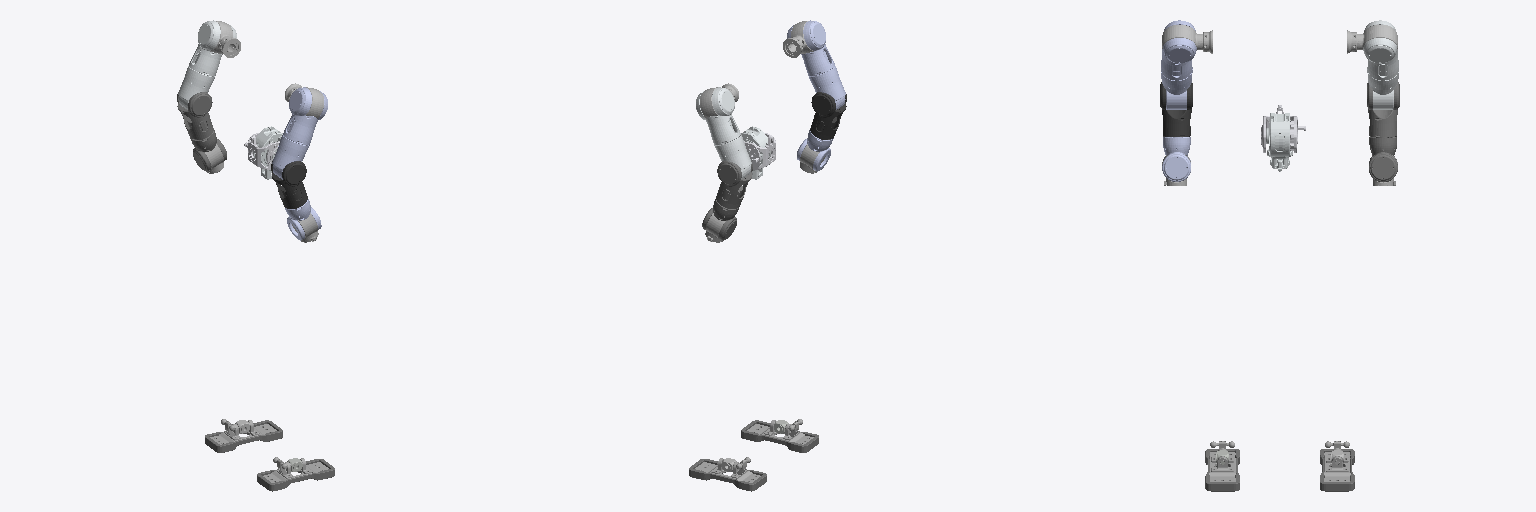
--- Facts derived from the render (not from the file) ---
Views: 3 orthographic renders of the robot side by side, from view 1: azimuth 30°, elevation 25°; view 2: azimuth 150°, elevation 25°; view 3: azimuth 270°, elevation 25°.
Model ehr_03 with 32 links and 31 joints (27 revolute, 4 fixed), rooted at base_link, posed every joint at zero.
Visible links, largest first — view 1: r_arm_l2, l_arm_l2, r_arm_l4, l_arm_l4, r_arm_l3, l_arm_l3, l_foot, r_foot, l_leg_l6, r_leg_l6, l_arm_l5, r_arm_l5 (+3 smaller); view 2: l_arm_l2, r_arm_l2, l_arm_l4, r_arm_l4, l_arm_l3, r_arm_l3, r_foot, l_foot, r_leg_l6, l_leg_l6, l_arm_l5, r_arm_l5 (+2 smaller); view 3: l_arm_l2, r_arm_l2, torso_l1, l_arm_l5, r_arm_l5, l_arm_l4, r_arm_l4, r_leg_l6, l_leg_l6, r_arm_l1, l_arm_l1, l_arm_l3 (+4 smaller).
Boxes of the visible links, bbox=[...] form: r_arm_l2: bbox=[283, 87, 327, 145]; l_arm_l2: bbox=[189, 20, 236, 76]; r_arm_l4: bbox=[271, 161, 307, 208]; l_arm_l4: bbox=[177, 92, 213, 139]; r_arm_l3: bbox=[272, 135, 309, 179]; l_arm_l3: bbox=[178, 66, 214, 109]; l_foot: bbox=[205, 420, 282, 452]; r_foot: bbox=[257, 459, 334, 491]; l_leg_l6: bbox=[210, 419, 276, 444]; r_leg_l6: bbox=[263, 457, 328, 482]; l_arm_l5: bbox=[190, 130, 226, 171]; r_arm_l5: bbox=[285, 199, 321, 240]; l_arm_l2: bbox=[696, 87, 740, 145]; r_arm_l2: bbox=[787, 20, 834, 76]; l_arm_l4: bbox=[716, 161, 752, 208]; r_arm_l4: bbox=[810, 92, 846, 139]; l_arm_l3: bbox=[714, 135, 751, 179]; r_arm_l3: bbox=[809, 66, 845, 109]; r_foot: bbox=[741, 420, 818, 452]; l_foot: bbox=[689, 459, 766, 491]; r_leg_l6: bbox=[747, 419, 813, 444]; l_leg_l6: bbox=[695, 457, 760, 482]; l_arm_l5: bbox=[702, 199, 738, 240]; r_arm_l5: bbox=[797, 130, 833, 171]; l_arm_l2: bbox=[1363, 20, 1398, 80]; r_arm_l2: bbox=[1161, 20, 1196, 80]; torso_l1: bbox=[1266, 113, 1292, 171]; l_arm_l5: bbox=[1369, 137, 1397, 181]; r_arm_l5: bbox=[1162, 137, 1190, 181]; l_arm_l4: bbox=[1367, 82, 1399, 137]; r_arm_l4: bbox=[1160, 82, 1192, 136]; r_leg_l6: bbox=[1209, 441, 1235, 481]; l_leg_l6: bbox=[1324, 441, 1350, 481]; r_arm_l1: bbox=[1162, 25, 1212, 53]; l_arm_l1: bbox=[1347, 25, 1397, 53]; l_arm_l3: bbox=[1367, 69, 1398, 109].
Size in the robot's own frame: 0.2567 by 0.633 by 1.3 metres.
Meshes: 32 distinct files referenced, 20 mesh visuals loaded (20 binary STL); not drawn: 12 (reference not matched to a file when rendering).

URDF robot description (ehr_03):
<?xml version="1.0" encoding="utf-8"?>
<!-- This URDF was automatically created by SolidWorks to URDF Exporter! Originally created by Stephen Brawner ([email redacted])
     Commit Version: 1.6.0-4-g7f85cfe  Build Version: 1.6.7995.38578
     For more information, please see http://wiki.ros.org/sw_urdf_exporter -->
<robot
  name="ehr_03">

  <mujoco>
		<compiler
		meshdir="../meshes"
		balanceinertia="true"
		discardvisual="false"/>
	</mujoco>

  <!-- <link name="world"></link> -->

	<!-- <joint name="floating_base_joint" type="floating">
		<parent link="world" />
		<child link="base_link" />
	</joint> -->

  <link name="base_link">
    <inertial>
      <origin
        xyz="-0.00044787 4.0773E-06 -0.0024229"
        rpy="0 0 0" />
      <mass
        value="6.2716" />
      <inertia
        ixx="0.010593"
        ixy="-2.1016E-07"
        ixz="2.0157E-06"
        iyy="0.018424"
        iyz="-5.3564E-09"
        izz="0.012768" />
    </inertial>
    <visual>
      <origin
        xyz="0 0 0"
        rpy="0 0 0" />
      <geometry>
        <mesh
          filename="../meshes/base_link.STL" />
      </geometry>
      <material
        name="">
        <color
          rgba="0.69804 0.69804 0.69804 1" />
      </material>
    </visual>
    <collision>
      <origin
        xyz="0 0 0.02"
        rpy="0 0 0" />
      <geometry>
        <box size="0.15 0.2 0.1"/>
      </geometry>
    </collision>
  </link>
    <link
    name="l_leg_l1">
    <inertial>
      <origin
        xyz="-0.04274 0.0696 -0.058751"
        rpy="0 0 0" />
      <mass
        value="2.3413" />
      <inertia
        ixx="0.0055647"
        ixy="-0.00015547"
        ixz="3.1596E-05"
        iyy="0.0056253"
        iyz="0.00056177"
        izz="0.0055552" />
    </inertial>
    <visual>
      <origin
        xyz="0 0 0"
        rpy="0 0 0" />
      <geometry>
        <mesh
          filename="../meshes/l_leg_l1.STL" />
      </geometry>
      <material
        name="">
        <color
          rgba="0.89804 0.92157 0.92941 1" />
      </material>
    </visual>
    <collision>
      <origin
        xyz="0 0.08 -0.07"
        rpy="0 0 0" />
      <geometry>
        <sphere radius="0.06"/>
      </geometry>
    </collision>
  </link>
  <joint
    name="l_leg_1"
    type="revolute">
    <origin
      xyz="0 0.10394 -0.022143"
      rpy="-0.43633 0 0" />
    <parent
      link="base_link" />
    <child
      link="l_leg_l1" />
    <axis
      xyz="0 1 0" />
    <limit
      lower="-1.57"
      upper="1.57"
      effort="320"
      velocity="14.137" />
  </joint>
  <link
    name="l_leg_l2">
    <inertial>
      <origin
        xyz="-0.00076602 4.848E-05 -0.054081"
        rpy="0 0 0" />
      <mass
        value="1.718" />
      <inertia
        ixx="0.0016615"
        ixy="-1.0431E-08"
        ixz="9.6968E-07"
        iyy="0.0017367"
        iyz="5.7052E-08"
        izz="0.0031832" />
    </inertial>
    <visual>
      <origin
        xyz="0 0 0"
        rpy="0 0 0" />
      <geometry>
        <mesh
          filename="../meshes/l_leg_l2.STL" />
      </geometry>
      <material
        name="">
        <color
          rgba="0.8902 0.8902 0.91373 1" />
      </material>
    </visual>

  </link>
  <joint
    name="l_leg_2"
    type="revolute">
    <origin
      xyz="0.01295 0.080175 -0.05872"
      rpy="0.42731 -0.21707 0" />
    <parent
      link="l_leg_l1" />
    <child
      link="l_leg_l2" />
    <axis
      xyz="1 0 0" />
    <limit
      lower="-0.2"
      upper="1.57"
      effort="150"
      velocity="14.661" />
  </joint>
  <link
    name="l_leg_l3">
    <inertial>
      <origin
        xyz="0.014982 0.0063694 -0.12969"
        rpy="0 0 0" />
      <mass
        value="4.3985" />
      <inertia
        ixx="0.017206"
        ixy="0.00087315"
        ixz="0.0024862"
        iyy="0.026754"
        iyz="-0.00018722"
        izz="0.012063" />
    </inertial>
    <visual>
      <origin
        xyz="0 0 0"
        rpy="0 0 0" />
      <geometry>
        <mesh
          filename="../meshes/l_leg_l3.STL" />
      </geometry>
      <material
        name="">
        <color
          rgba="0.75294 0.75294 0.75294 1" />
      </material>
    </visual>
    <collision>
      <origin
        xyz="0.025 0 -0.12"
        rpy="0 -0.15 -0.06" />
      <geometry>
        <box size="0.20 0.12 0.2"/>
      </geometry>
    </collision>
  </link>
  <joint
    name="l_leg_3"
    type="revolute">
    <origin
      xyz="0 0 -0.0865"
      rpy="0 0 0" />
    <parent
      link="l_leg_l2" />
    <child
      link="l_leg_l3" />
    <axis
      xyz="0 0 1" />
    <limit
      lower="-1.57"
      upper="1.57"
      effort="150"
      velocity="14.661" />
  </joint>
  <link
    name="l_leg_l4">
    <inertial>
      <origin
        xyz="-0.0088863 -8.3229E-06 -0.12174"
        rpy="0 0 0" />
      <mass
        value="2.2247" />
      <inertia
        ixx="0.01165"
        ixy="-8.6225E-06"
        ixz="-0.0043271"
        iyy="0.014401"
        iyz="-2.1865E-05"
        izz="0.0032245" />
    </inertial>
    <visual>
      <origin
        xyz="0 0 0"
        rpy="0 0 0" />
      <geometry>
        <mesh
          filename="../meshes/l_leg_l4.STL" />
      </geometry>
      <material
        name="">
        <color
          rgba="0.89804 0.92157 0.92941 1" />
      </material>
    </visual>
    <collision>
      <origin
        xyz="-0.025 0 -0.15"
        rpy="0 0.5 0" />
      <geometry>
        <box size="0.1 0.08 0.2"/>
      </geometry>
    </collision>
  </link>
  <joint
    name="l_leg_4"
    type="revolute">
    <origin
      xyz="0.015189 -0.0013882 -0.29433"
      rpy="0 0.19728 -0.091145" />
    <parent
      link="l_leg_l3" />
    <child
      link="l_leg_l4" />
    <axis
      xyz="0 1 0" />
    <limit
      lower="-0.523"
      upper="1.57"
      effort="320"
      velocity="14.137" />
  </joint>
  <link
    name="l_leg_l5">
    <inertial>
      <origin
        xyz="-1.1967E-07 -7.0818E-11 -8.5642E-08"
        rpy="0 0 0" />
      <mass
        value="0.078746" />
      <inertia
        ixx="1.0219E-05"
        ixy="-4.3227E-13"
        ixz="4.0927E-10"
        iyy="1.9028E-05"
        iyz="2.6232E-11"
        izz="1.7336E-05" />
    </inertial>
    <visual>
      <origin
        xyz="0 0 0"
        rpy="0 0 0" />
      <geometry>
        <mesh
          filename="../meshes/l_leg_l5.STL" />
      </geometry>
      <material
        name="">
        <color
          rgba="0.75294 0.75294 0.75294 1" />
      </material>
    </visual>

  </link>
  <joint
    name="l_leg_5"
    type="revolute">
    <origin
      xyz="-0.11555 0 -0.30947"
      rpy="0 0 0" />
    <parent
      link="l_leg_l4" />
    <child
      link="l_leg_l5" />
    <axis
      xyz="0 1 0" />
    <limit
      lower="-0.84"
      upper="0.7"
      effort="75"
      velocity="12.252" />
  </joint>
  <link
    name="l_leg_l6">
    <inertial>
      <origin
        xyz="-0.00819525144583517 -7.75010805531551E-10 -0.015608483675418"
        rpy="0 0 0" />
      <mass
        value="0.380900815380528" />
      <inertia
        ixx="0.000158341180452034"
        ixy="-8.95793500928833E-12"
        ixz="3.89608970374559E-06"
        iyy="0.000810570801972236"
        iyz="1.98256647510127E-11"
        izz="0.000944755476087221" />
    </inertial>
    <visual>
      <origin
        xyz="0 0 0"
        rpy="0 0 0" />
      <geometry>
        <mesh
          filename="../meshes/l_leg_l6.STL" />
      </geometry>
      <material
        name="">
        <color
          rgba="0.698039215686274 0.698039215686274 0.698039215686274 1" />
      </material>
    </visual>

  </link>
  <joint
    name="l_leg_6"
    type="revolute">
    <origin
      xyz="0 0 0"
      rpy="0 0 0" />
    <parent
      link="l_leg_l5" />
    <child
      link="l_leg_l6" />
    <axis
      xyz="1 0 0" />
    <limit
      lower="-0.45"
      upper="0.45"
      effort="75"
      velocity="12.252" />
  </joint>
  <link
    name="l_foot">
    <inertial>
      <origin
        xyz="0.0070568 2.74E-11 -0.0069279"
        rpy="0 0 0" />
      <mass
        value="0.20452" />
      <inertia
        ixx="0.00017384"
        ixy="2.7187E-12"
        ixz="2.7482E-06"
        iyy="0.0010753"
        iyz="3.2473E-14"
        izz="0.0012348" />
    </inertial>
    <visual>
      <origin
        xyz="0 0 0"
        rpy="0 0 0" />
      <geometry>
        <mesh
          filename="../meshes/l_foot.STL" />
      </geometry>
      <material
        name="">
        <color
          rgba="0.50196 0.50196 0.50196 1" />
      </material>
    </visual>
    <collision>
      <origin
        xyz="0 0 0"
        rpy="0 0 0" />
      <geometry>
        <mesh
          filename="../meshes/l_foot.STL" />
      </geometry>
    </collision>
  </link>
  <joint
    name="l_foot"
    type="fixed">
    <origin
      xyz="0 0 -0.0272500000000008"
      rpy="0 0 0" />
    <parent
      link="l_leg_l6" />
    <child
      link="l_foot" />
    <axis
      xyz="0 0 0" />
  </joint>

  <link
    name="r_leg_l1">
    <inertial>
      <origin
        xyz="-0.042746 -0.069664 -0.058722"
        rpy="0 0 0" />
      <mass
        value="2.3413" />
      <inertia
        ixx="0.0055647"
        ixy="0.00015572"
        ixz="3.1479E-05"
        iyy="0.0056253"
        iyz="-0.00056173"
        izz="0.0055551" />
    </inertial>
    <visual>
      <origin
        xyz="0 0 0"
        rpy="0 0 0" />
      <geometry>
        <mesh
          filename="../meshes/r_leg_l1.STL" />
      </geometry>
      <material
        name="">
        <color
          rgba="0.69804 0.69804 0.69804 1" />
      </material>
    </visual>
    <collision>
      <origin
        xyz="0 -0.08 -0.07"
        rpy="0 0 0" />
      <geometry>
        <sphere radius="0.06"/>
      </geometry>
    </collision>
  </link>
  <joint
    name="r_leg_1"
    type="revolute">
    <origin
      xyz="0 -0.10394 -0.022143"
      rpy="0.43633 0 0" />
    <parent
      link="base_link" />
    <child
      link="r_leg_l1" />
    <axis
      xyz="0 1 0" />
    <limit
      lower="-1.57"
      upper="1.57"
      effort="320"
      velocity="14.137" />
  </joint>
  <link
    name="r_leg_l2">
    <inertial>
      <origin
        xyz="-0.00077072 -5.3256E-05 -0.054096"
        rpy="0 0 0" />
      <mass
        value="1.7174" />
      <inertia
        ixx="0.0016615"
        ixy="-1.0515E-08"
        ixz="9.3275E-07"
        iyy="0.0017365"
        iyz="-1.3766E-07"
        izz="0.0031834" />
    </inertial>
    <visual>
      <origin
        xyz="0 0 0"
        rpy="0 0 0" />
      <geometry>
        <mesh
          filename="../meshes/r_leg_l2.STL" />
      </geometry>
      <material
        name="">
        <color
          rgba="0.89804 0.92157 0.92941 1" />
      </material>
    </visual>

  </link>
  <joint
    name="r_leg_2"
    type="revolute">
    <origin
      xyz="0.01295 -0.080175 -0.05872"
      rpy="-0.42731 -0.21707 0" />
    <parent
      link="r_leg_l1" />
    <child
      link="r_leg_l2" />
    <axis
      xyz="1 0 0" />
    <limit
      lower="-1.57"
      upper="0.2"
      effort="150"
      velocity="14.661" />
  </joint>
  <link
    name="r_leg_l3">
    <inertial>
      <origin
        xyz="0.015083 -0.0052987 -0.12857"
        rpy="0 0 0" />
      <mass
        value="4.4773" />
      <inertia
        ixx="0.017447"
        ixy="-0.00088928"
        ixz="0.0025286"
        iyy="0.027234"
        iyz="0.00018984"
        izz="0.012311" />
    </inertial>
    <visual>
      <origin
        xyz="0 0 0"
        rpy="0 0 0" />
      <geometry>
        <mesh
          filename="../meshes/r_leg_l3.STL" />
      </geometry>
      <material
        name="">
        <color
          rgba="0.79216 0.81961 0.93333 1" />
      </material>
    </visual>
    <collision>
      <origin
        xyz="0.025 0 -0.12"
        rpy="0 -0.15 0.06" />
      <geometry>
        <box size="0.20 0.12 0.2"/>
      </geometry>
    </collision>
  </link>
  <joint
    name="r_leg_3"
    type="revolute">
    <origin
      xyz="0 0 -0.0875"
      rpy="0 0 0" />
    <parent
      link="r_leg_l2" />
    <child
      link="r_leg_l3" />
    <axis
      xyz="0 0 1" />
    <limit
      lower="-1.57"
      upper="1.57"
      effort="150"
      velocity="14.661" />
  </joint>
  <link
    name="r_leg_l4">
    <inertial>
      <origin
        xyz="-0.0088864 7.0158E-06 -0.12174"
        rpy="0 0 0" />
      <mass
        value="2.2247" />
      <inertia
        ixx="0.011651"
        ixy="8.5688E-06"
        ixz="-0.0043275"
        iyy="0.014402"
        iyz="2.1733E-05"
        izz="0.0032246" />
    </inertial>
    <visual>
      <origin
        xyz="0 0 0"
        rpy="0 0 0" />
      <geometry>
        <mesh
          filename="../meshes/r_leg_l4.STL" />
      </geometry>
      <material
        name="">
        <color
          rgba="0.75686 0.76863 0.75294 1" />
      </material>
    </visual>
    <collision>
      <origin
        xyz="-0.025 0 -0.15"
        rpy="0 0.5 0" />
      <geometry>
        <box size="0.1 0.08 0.2"/>
      </geometry>
    </collision>
  </link>
  <joint
    name="r_leg_4"
    type="revolute">
    <origin
      xyz="0.015189 0.0013884 -0.29333"
      rpy="0 0.19728 0.091145" />
    <parent
      link="r_leg_l3" />
    <child
      link="r_leg_l4" />
    <axis
      xyz="0 1 0" />
    <limit
      lower="-0.523"
      upper="1.57"
      effort="320"
      velocity="14.137" />
  </joint>
  <link
    name="r_leg_l5">
    <inertial>
      <origin
        xyz="-1.2017E-07 5.0995E-09 -8.3322E-08"
        rpy="0 0 0" />
      <mass
        value="0.078746" />
      <inertia
        ixx="1.0219E-05"
        ixy="-4.7689E-13"
        ixz="3.7081E-10"
        iyy="1.9028E-05"
        iyz="2.6289E-11"
        izz="1.7336E-05" />
    </inertial>
    <visual>
      <origin
        xyz="0 0 0"
        rpy="0 0 0" />
      <geometry>
        <mesh
          filename="../meshes/r_leg_l5.STL" />
      </geometry>
      <material
        name="">
        <color
          rgba="0.75686 0.76863 0.75294 1" />
      </material>
    </visual>

  </link>
  <joint
    name="r_leg_5"
    type="revolute">
    <origin
      xyz="-0.11555 0 -0.30947"
      rpy="0 0 0" />
    <parent
      link="r_leg_l4" />
    <child
      link="r_leg_l5" />
    <axis
      xyz="0 1 0" />
    <limit
      lower="-0.84"
      upper="0.7"
      effort="75"
      velocity="12.252" />
  </joint>
  <link
    name="r_leg_l6">
    <inertial>
      <origin
        xyz="-0.00810563766236773 -1.90574214742334E-09 -0.015687039514419"
        rpy="0 0 0" />
      <mass
        value="0.379386899371904" />
      <inertia
        ixx="0.000158250047617737"
        ixy="-8.76844155971365E-12"
        ixz="3.89608813249665E-06"
        iyy="0.000810506032099252"
        iyz="2.21391622046152E-11"
        izz="0.000944710992210383" />
    </inertial>
    <visual>
      <origin
        xyz="0 0 0"
        rpy="0 0 0" />
      <geometry>
        <mesh
          filename="../meshes/r_leg_l6.STL" />
      </geometry>
      <material
        name="">
        <color
          rgba="0.698039215686274 0.698039215686274 0.698039215686274 1" />
      </material>
    </visual>

  </link>
  <joint
    name="r_leg_6"
    type="revolute">
    <origin
      xyz="0 0 0"
      rpy="0 0 0" />
    <parent
      link="r_leg_l5" />
    <child
      link="r_leg_l6" />
    <axis
      xyz="1 0 0" />
    <limit
      lower="-0.45"
      upper="0.45"
      effort="75"
      velocity="12.252" />
  </joint>
  <link
    name="r_foot">
    <inertial>
      <origin
        xyz="0.0070568 2.7395E-11 -0.0069279"
        rpy="0 0 0" />
      <mass
        value="0.20452" />
      <inertia
        ixx="0.00017384"
        ixy="2.7187E-12"
        ixz="2.7482E-06"
        iyy="0.0010753"
        iyz="3.2473E-14"
        izz="0.0012348" />
    </inertial>
    <visual>
      <origin
        xyz="0 0 0"
        rpy="0 0 0" />
      <geometry>
        <mesh
          filename="../meshes/r_foot.STL" />
      </geometry>
      <material
        name="">
        <color
          rgba="0.50196 0.50196 0.50196 1" />
      </material>
    </visual>
    <collision>
      <origin
        xyz="0 0 0"
        rpy="0 0 0" />
      <geometry>
        <mesh
          filename="../meshes/r_foot.STL" />
      </geometry>
    </collision>
  </link>
  <joint
    name="r_foot"
    type="fixed">
    <origin
      xyz="0 0 -0.027250001232115"
      rpy="0 0 0" />
    <parent
      link="r_leg_l6" />
    <child
      link="r_foot" />
    <axis
      xyz="0 0 0" />
  </joint>
  <link
    name="torso_l1">
    <inertial>
      <origin
        xyz="0.00032487 -0.0014995 0.075068"
        rpy="0 0 0" />
      <mass
        value="1.1107" />
      <inertia
        ixx="0.0012689"
        ixy="-1.1242E-07"
        ixz="3.7265E-06"
        iyy="0.002121"
        iyz="-1.397E-07"
        izz="0.00099899" />
    </inertial>
    <visual>
      <origin
        xyz="0 0 0"
        rpy="0 0 0" />
      <geometry>
        <mesh
          filename="../meshes/torso_l1.STL" />
      </geometry>
      <material
        name="">
        <color
          rgba="0.89804 0.92157 0.92941 1" />
      </material>
    </visual>

  </link>
  <joint
    name="torso_1"
    type="revolute">
    <origin
      xyz="0 0 0.076437"
      rpy="0 0 0" />
    <parent
      link="base_link" />
    <child
      link="torso_l1" />
    <axis
      xyz="0 0 1" />
    <limit
      lower="-2.1"
      upper="2.1"
      effort="60"
      velocity="15.603" />
  </joint>
  <link
    name="torso_l2">
    <inertial>
      <origin
        xyz="-0.023657 0.006306 0.0010904"
        rpy="0 0 0" />
      <mass
        value="0.33239" />
      <inertia
        ixx="0.00038273"
        ixy="1.0293E-05"
        ixz="-2.1754E-06"
        iyy="0.00040953"
        iyz="1.3248E-07"
        izz="0.00046519" />
    </inertial>
    <visual>
      <origin
        xyz="0 0 0"
        rpy="0 0 0" />
      <geometry>
        <mesh
          filename="../meshes/torso_l2.STL" />
      </geometry>
      <material
        name="">
        <color
          rgba="0.8902 0.8902 0.91373 1" />
      </material>
    </visual>
  </link>
  <joint
    name="torso_2"
    type="revolute">
    <origin
      xyz="0 0 0.081"
      rpy="0 0 0" />
    <parent
      link="torso_l1" />
    <child
      link="torso_l2" />
    <axis
      xyz="0 1 0" />
    <limit
      lower="-0.523"
      upper="0.523"
      effort="90"
      velocity="16.441" />
  </joint>
  <link
    name="torso_l3">
    <inertial>
      <origin
        xyz="0.031527 0.0015128 0.17859"
        rpy="0 0 0" />
      <mass
        value="11.139" />
      <inertia
        ixx="0.09006"
        ixy="-7.5054E-05"
        ixz="0.00033345"
        iyy="0.055413"
        iyz="0.0017487"
        izz="0.062453" />
    </inertial>
    <visual>
      <origin
        xyz="0 0 0"
        rpy="0 0 0" />
      <geometry>
        <mesh
          filename="../meshes/torso_l3.STL" />
      </geometry>
      <material
        name="">
        <color
          rgba="0.69804 0.69804 0.69804 1" />
      </material>
    </visual>
    <collision>
      <origin
        xyz="0.04 0 0.15"
        rpy="0 0 0" />
      <geometry>
        <box size="0.2 0.25 0.35"/>
      </geometry>
    </collision>
  </link>
  <joint
    name="torso_3"
    type="revolute">
    <origin
      xyz="-0.065 0 0"
      rpy="0 0 0" />
    <parent
      link="torso_l2" />
    <child
      link="torso_l3" />
    <axis
      xyz="1 0 0" />
    <limit
      lower="-0.523"
      upper="0.523"
      effort="60"
      velocity="15.603" />
  </joint>
  <link
    name="l_arm_l1">
    <inertial>
      <origin
        xyz="0.00388 0.075761 -0.0017659"
        rpy="0 0 0" />
      <mass
        value="0.85956" />
      <inertia
        ixx="0.0006078"
        ixy="-1.2012E-05"
        ixz="-5.8816E-05"
        iyy="0.00040682"
        iyz="5.8155E-06"
        izz="0.00051063" />
    </inertial>
    <visual>
      <origin
        xyz="0 0 0"
        rpy="0 0 0" />
      <geometry>
        <mesh
          filename="../meshes/l_arm_l1.STL" />
      </geometry>
      <material
        name="">
        <color
          rgba="0.75294 0.75294 0.75294 1" />
      </material>
    </visual>
    <collision>
      <origin
        xyz="0 -0.02 0"
        rpy="1.5708 0 0" />
      <geometry>
        <cylinder length="0.03" radius="0.05"/>
      </geometry>
    </collision>
  </link>
  <joint
    name="l_arm_1"
    type="revolute">
    <origin
      xyz="0.0335 0.1815 0.26"
      rpy="0 0 0" />
    <parent
      link="torso_l3" />
    <child
      link="l_arm_l1" />
    <axis
      xyz="0 1 0" />
    <limit
      lower="-3.58"
      upper="2.71"
      effort="60"
      velocity="15.603" />
  </joint>
  <link
    name="l_arm_l2">
    <inertial>
      <origin
        xyz="0.0013094 0.0064116 -0.063967"
        rpy="0 0 0" />
      <mass
        value="0.73729" />
      <inertia
        ixx="0.00099981"
        ixy="7.5582E-07"
        ixz="6.7801E-06"
        iyy="0.00082641"
        iyz="4.6711E-05"
        izz="0.00047693" />
    </inertial>
    <visual>
      <origin
        xyz="0 0 0"
        rpy="0 0 0" />
      <geometry>
        <mesh
          filename="../meshes/l_arm_l2.STL" />
      </geometry>
      <material
        name="">
        <color
          rgba="0.89804 0.91765 0.92941 1" />
      </material>
    </visual>
    <collision>
      <origin
        xyz="0 0 0"
        rpy="0 0 0" />
      <geometry>
        <sphere radius="0.055"/>
      </geometry>
    </collision>
  </link>
  <joint
    name="l_arm_2"
    type="revolute">
    <origin
      xyz="0 0.084 0"
      rpy="0 0.43633 0" />
    <parent
      link="l_arm_l1" />
    <child
      link="l_arm_l2" />
    <axis
      xyz="1 0 0" />
    <limit
      lower="-0.174"
      upper="2.966"
      effort="75"
      velocity="12.252" />
  </joint>
  <link
    name="l_arm_l3">
    <inertial>
      <origin
        xyz="0.0099976 -0.0059938 -0.071971"
        rpy="0 0 0" />
      <mass
        value="0.75417" />
      <inertia
        ixx="0.0006865"
        ixy="1.011E-05"
        ixz="5.1282E-05"
        iyy="0.00082922"
        iyz="-1.4371E-05"
        izz="0.00053733" />
    </inertial>
    <visual>
      <origin
        xyz="0 0 0"
        rpy="0 0 0" />
      <geometry>
        <mesh
          filename="../meshes/l_arm_l3.STL" />
      </geometry>
      <material
        name="">
        <color
          rgba="0.89804 0.91765 0.92941 1" />
      </material>
    </visual>
    <collision>
      <origin
        xyz="0 0 -0.022"
        rpy="0 0 0" />
      <geometry>
        <cylinder length="0.04" radius="0.045"/>
      </geometry>
    </collision>
  </link>
  <joint
    name="l_arm_3"
    type="revolute">
    <origin
      xyz="0 0.008 -0.112"
      rpy="0 0 0" />
    <parent
      link="l_arm_l2" />
    <child
      link="l_arm_l3" />
    <axis
      xyz="0 0 1" />
    <limit
      lower="-1.57"
      upper="1.57"
      effort="36"
      velocity="3" />
  </joint>
  <link
    name="l_arm_l4">
    <inertial>
      <origin
        xyz="-0.012236 -0.0010975 -0.068363"
        rpy="0 0 0" />
      <mass
        value="0.68148" />
      <inertia
        ixx="0.0006732"
        ixy="2.6217E-07"
        ixz="-4.1476E-05"
        iyy="0.00078309"
        iyz="-1.0113E-05"
        izz="0.00039393" />
    </inertial>
    <visual>
      <origin
        xyz="0 0 0"
        rpy="0 0 0" />
      <geometry>
        <mesh
          filename="../meshes/l_arm_l4.STL" />
      </geometry>
      <material
        name="">
        <color
          rgba="0.50196 0.50196 0.50196 1" />
      </material>
    </visual>
    <collision>
      <origin
        xyz="0 0 0"
        rpy="1.5708 0 0" />
      <geometry>
        <cylinder length="0.08" radius="0.045"/>
      </geometry>
    </collision>
  </link>
  <joint
    name="l_arm_4"
    type="revolute">
    <origin
      xyz="0.015 0 -0.0885"
      rpy="0 -0.7854 0" />
    <parent
      link="l_arm_l3" />
    <child
      link="l_arm_l4" />
    <axis
      xyz="0 1 0" />
    <limit
      lower="-1.74"
      upper="0.785"
      effort="36"
      velocity="9.320" />
  </joint>
  <link
    name="l_arm_l5">
    <inertial>
      <origin
        xyz="0.0025659 4.4452E-06 -0.046597"
        rpy="0 0 0" />
      <mass
        value="0.2475" />
      <inertia
        ixx="0.00033488"
        ixy="1.843E-08"
        ixz="4.7685E-06"
        iyy="0.00024661"
        iyz="6.3885E-07"
        izz="0.00014856" />
    </inertial>
    <visual>
      <origin
        xyz="0 0 0"
        rpy="0 0 0" />
      <geometry>
        <mesh
          filename="../meshes/l_arm_l5.STL" />
      </geometry>
      <material
        name="">
        <color
          rgba="0.50196 0.50196 0.50196 1" />
      </material>
    </visual>
    <collision>
      <origin
        xyz="0 0 0.01"
        rpy="0 0 0" />
      <geometry>
        <cylinder length="0.08" radius="0.045"/>
      </geometry>
    </collision>
  </link>
  <joint
    name="l_arm_5"
    type="revolute">
    <origin
      xyz="-0.015 0 -0.113"
      rpy="0 0 0" />
    <parent
      link="l_arm_l4" />
    <child
      link="l_arm_l5" />
    <axis
      xyz="0 0 1" />
    <limit
      lower="-0.37"
      upper="0.37"
      effort="36"
      velocity="9.320" />
  </joint>
  <link
    name="l_arm_l6">
    <inertial>
      <origin
        xyz="0.007913 0.0001143 -0.0018644"
        rpy="0 0 0" />
      <mass
        value="0.51802" />
      <inertia
        ixx="0.00036014"
        ixy="-1.8515E-07"
        ixz="-6.8734E-06"
        iyy="0.00024376"
        iyz="-7.9765E-07"
        izz="0.00021358" />
    </inertial>
    <visual>
      <origin
        xyz="0 0 0"
        rpy="0 0 0" />
      <geometry>
        <mesh
          filename="../meshes/l_arm_l6.STL" />
      </geometry>
      <material
        name="">
        <color
          rgba="0.69804 0.69804 0.69804 1" />
      </material>
    </visual>
    <collision>
      <origin
        xyz="0 0 0"
        rpy="0 1.5708 0" />
      <geometry>
        <cylinder length="0.08" radius="0.042"/>
      </geometry>
    </collision>
  </link>
  <joint
    name="l_arm_6"
    type="revolute">
    <origin
      xyz="0 0 -0.078965"
      rpy="0 0 0" />
    <parent
      link="l_arm_l5" />
    <child
      link="l_arm_l6" />
    <axis
      xyz="1 0 0" />
    <limit
      lower="-0.37"
      upper="0.385"
      effort="36"
      velocity="3" />
  </joint>
  <link
    name="l_hand">
    <inertial>
      <origin
        xyz="0.0023434 -0.001969 -0.090507"
        rpy="0 0 0" />
      <mass
        value="0.70576" />
      <inertia
        ixx="0.00030389"
        ixy="7.4364E-06"
        ixz="2.0531E-05"
        iyy="0.00045217"
        iyz="-7.6225E-06"
        izz="0.00031716" />
    </inertial>
    <visual>
      <origin
        xyz="0 0 0"
        rpy="0 0 0" />
      <geometry>
        <mesh
          filename="../meshes/l_hand.STL" />
      </geometry>
      <material
        name="">
        <color
          rgba="0.69804 0.69804 0.69804 1" />
      </material>
    </visual>
    <collision>
      <origin
        xyz="0 0 -0.1"
        rpy="0 0 0" />
      <geometry>
        <box size="0.1 0.1 0.2"/>
      </geometry>
    </collision>
  </link>
  <joint
    name="l_hand"
    type="fixed">
    <origin
      xyz="0 0 -0.0500000000000033"
      rpy="0 0 0" />
    <parent
      link="l_arm_l6" />
    <child
      link="l_hand" />
    <axis
      xyz="0 0 0" />
  </joint>
  <link
    name="r_arm_l1">
    <inertial>
      <origin
        xyz="0.0038783 -0.075768 -0.0017698"
        rpy="0 0 0" />
      <mass
        value="0.85955" />
      <inertia
        ixx="0.00060831"
        ixy="1.2702E-05"
        ixz="-5.7736E-05"
        iyy="0.00040401"
        iyz="-4.3459E-06"
        izz="0.00051294" />
    </inertial>
    <visual>
      <origin
        xyz="0 0 0"
        rpy="0 0 0" />
      <geometry>
        <mesh
          filename="../meshes/r_arm_l1.STL" />
      </geometry>
      <material
        name="">
        <color
          rgba="0.75294 0.75294 0.75294 1" />
      </material>
    </visual>
    <collision>
      <origin
        xyz="0 0.02 0"
        rpy="1.5708 0 0" />
      <geometry>
        <cylinder length="0.03" radius="0.05"/>
      </geometry>
    </collision>
  </link>
  <joint
    name="r_arm_1"
    type="revolute">
    <origin
      xyz="0.0335 -0.1815 0.26"
      rpy="0 0 0" />
    <parent
      link="torso_l3" />
    <child
      link="r_arm_l1" />
    <axis
      xyz="0 1 0" />
    <limit
      lower="-3.58"
      upper="2.71"
      effort="60"
      velocity="15.603" />
  </joint>
  <link
    name="r_arm_l2">
    <inertial>
      <origin
        xyz="-0.0001958 -0.0064125 -0.063954"
        rpy="0 0 0" />
      <mass
        value="0.73773" />
      <inertia
        ixx="0.00099983"
        ixy="-9.0241E-07"
        ixz="-1.6847E-05"
        iyy="0.00082642"
        iyz="-4.671E-05"
        izz="0.00047694" />
    </inertial>
    <visual>
      <origin
        xyz="0 0 0"
        rpy="0 0 0" />
      <geometry>
        <mesh
          filename="../meshes/r_arm_l2.STL" />
      </geometry>
      <material
        name="">
        <color
          rgba="0.79216 0.81961 0.93333 1" />
      </material>
    </visual>
    <collision>
      <origin
        xyz="0 0 0"
        rpy="0 0 0" />
      <geometry>
        <sphere radius="0.055"/>
      </geometry>
    </collision>
  </link>
  <joint
    name="r_arm_2"
    type="revolute">
    <origin
      xyz="0 -0.084 0"
      rpy="0 0.43633 0" />
    <parent
      link="r_arm_l1" />
    <child
      link="r_arm_l2" />
    <axis
      xyz="1 0 0" />
    <limit
      lower="-2.966"
      upper="0.174"
      effort="75"
      velocity="12.252" />
  </joint>
  <link
    name="r_arm_l3">
    <inertial>
      <origin
        xyz="0.0099973 0.0059927 -0.073434"
        rpy="0 0 0" />
      <mass
        value="0.7541" />
      <inertia
        ixx="0.00068645"
        ixy="-1.0111E-05"
        ixz="5.1466E-05"
        iyy="0.00082922"
        iyz="3.8003E-05"
        izz="0.00053737" />
    </inertial>
    <visual>
      <origin
        xyz="0 0 0"
        rpy="0 0 0" />
      <geometry>
        <mesh
          filename="../meshes/r_arm_l3.STL" />
      </geometry>
      <material
        name="">
        <color
          rgba="0.79216 0.81961 0.93333 1" />
      </material>
    </visual>
    <collision>
      <origin
        xyz="0 0 -0.022"
        rpy="0 0 0" />
      <geometry>
        <cylinder length="0.04" radius="0.045"/>
      </geometry>
    </collision>
  </link>
  <joint
    name="r_arm_3"
    type="revolute">
    <origin
      xyz="0 -0.008 -0.112"
      rpy="0 0 0" />
    <parent
      link="r_arm_l2" />
    <child
      link="r_arm_l3" />
    <axis
      xyz="0 0 1" />
    <limit
      lower="-1.57"
      upper="1.57"
      effort="36"
      velocity="3" />
  </joint>
  <link
    name="r_arm_l4">
    <inertial>
      <origin
        xyz="0.039684 0.0010979 -0.056997"
        rpy="0 0 0" />
      <mass
        value="0.68148" />
      <inertia
        ixx="0.00057511"
        ixy="-7.231E-06"
        ixz="0.00013963"
        iyy="0.00078309"
        iyz="7.0543E-06"
        izz="0.00049202" />
    </inertial>
    <visual>
      <origin
        xyz="0 0 0"
        rpy="0 0 0" />
      <geometry>
        <mesh
          filename="../meshes/r_arm_l4.STL" />
      </geometry>
      <material
        name="">
        <color
          rgba="0.29804 0.29804 0.29804 1" />
      </material>
    </visual>
    <collision>
      <origin
        xyz="0 0 0"
        rpy="1.5708 0 0" />
      <geometry>
        <cylinder length="0.08" radius="0.045"/>
      </geometry>
    </collision>
  </link>
  <joint
    name="r_arm_4"
    type="revolute">
    <origin
      xyz="0.015 0 -0.0885"
      rpy="0 0 0" />
    <parent
      link="r_arm_l3" />
    <child
      link="r_arm_l4" />
    <axis
      xyz="0 1 0" />
    <limit
      lower="-1.74"
      upper="0.785"
      effort="36"
      velocity="9.320" />
  </joint>
  <link
    name="r_arm_l5">
    <inertial>
      <origin
        xyz="0.004319 -5.2542E-06 -0.044878"
        rpy="0 0 0" />
      <mass
        value="0.2372" />
      <inertia
        ixx="0.00032966"
        ixy="-1.8563E-08"
        ixz="4.7694E-06"
        iyy="0.000244"
        iyz="-6.3752E-07"
        izz="0.00014594" />
    </inertial>
    <visual>
      <origin
        xyz="0 0 0"
        rpy="0 0 0" />
      <geometry>
        <mesh
          filename="../meshes/r_arm_l5.STL" />
      </geometry>
      <material
        name="">
        <color
          rgba="0.79216 0.81961 0.93333 1" />
      </material>
    </visual>
    <collision>
      <origin
        xyz="0 0 0.01"
        rpy="0 0 0" />
      <geometry>
        <cylinder length="0.08" radius="0.045"/>
      </geometry>
    </collision>
  </link>
  <joint
    name="r_arm_5"
    type="revolute">
    <origin
      xyz="0.069296 0 -0.09051"
      rpy="0 -0.7854 0" />
    <parent
      link="r_arm_l4" />
    <child
      link="r_arm_l5" />
    <axis
      xyz="0 0 1" />
    <limit
      lower="-0.37"
      upper="0.37"
      effort="36"
      velocity="9.320" />
  </joint>
  <link
    name="r_arm_l6">
    <inertial>
      <origin
        xyz="0.007913 -0.00011464 -0.0022677"
        rpy="0 0 0" />
      <mass
        value="0.51802" />
      <inertia
        ixx="0.00036015"
        ixy="1.828E-07"
        ixz="-5.9816E-06"
        iyy="0.00024376"
        iyz="7.4711E-07"
        izz="0.00021358" />
    </inertial>
    <visual>
      <origin
        xyz="0 0 0"
        rpy="0 0 0" />
      <geometry>
        <mesh
          filename="../meshes/r_arm_l6.STL" />
      </geometry>
      <material
        name="">
        <color
          rgba="0.69804 0.69804 0.69804 1" />
      </material>
    </visual>
    <collision>
      <origin
        xyz="0 0 0"
        rpy="0 1.5708 0" />
      <geometry>
        <cylinder length="0.08" radius="0.042"/>
      </geometry>
    </collision>
  </link>
  <joint
    name="r_arm_6"
    type="revolute">
    <origin
      xyz="0 0 -0.078465"
      rpy="0 0 0" />
    <parent
      link="r_arm_l5" />
    <child
      link="r_arm_l6" />
    <axis
      xyz="1 0 0" />
    <limit
      lower="-0.385"
      upper="0.37"
      effort="36"
      velocity="3" />
  </joint>
  <link
    name="r_hand">
    <inertial>
      <origin
        xyz="0.002153 0.0022194 -0.091965"
        rpy="0 0 0" />
      <mass
        value="0.70318" />
      <inertia
        ixx="0.00070478"
        ixy="-1.0092E-05"
        ixz="1.4584E-05"
        iyy="0.00084179"
        iyz="-3.932E-06"
        izz="0.00031339" />
    </inertial>
    <visual>
      <origin
        xyz="0 0 0"
        rpy="0 0 0" />
      <geometry>
        <mesh
          filename="../meshes/r_hand.STL" />
      </geometry>
      <material
        name="">
        <color
          rgba="0.69804 0.69804 0.69804 1" />
      </material>
    </visual>
    <collision>
      <origin
        xyz="0 0 -0.1"
        rpy="0 0 0" />
      <geometry>
        <box size="0.1 0.1 0.2"/>
      </geometry>
    </collision>
  </link>
  <joint
    name="r_hand"
    type="fixed">
    <origin
      xyz="0 0.000347030541417714 -0.050000000000004"
      rpy="0 0 0" />
    <parent
      link="r_arm_l6" />
    <child
      link="r_hand" />
    <axis
      xyz="0 0 0" />
  </joint>

</robot>
